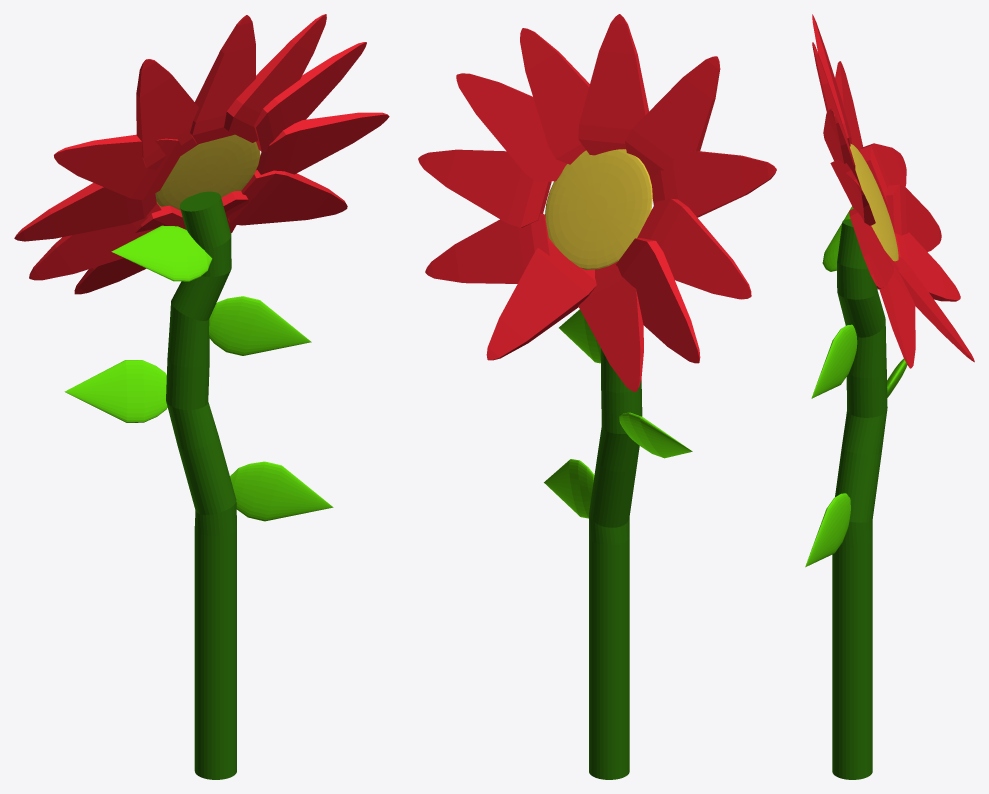
Rendered from redFlower.fbx.
3 renders of one model, left to right at view 1: azimuth 30°, elevation 25°; view 2: azimuth 150°, elevation 25°; view 3: azimuth 270°, elevation 25°, orthographic. The views are drawn at different scales.
Visible parts, largest first — view 1: leaves, Cylinder, Cone, Sphere; view 2: leaves, Cylinder, Sphere, Cone; view 3: Cylinder, leaves, Cone, Sphere.
Boxes of the visible parts, x1=… form: leaves: x1=14, y1=14, x2=389, y2=294; Cylinder: x1=166, y1=191, x2=236, y2=779; Cone: x1=64, y1=225, x2=333, y2=521; Sphere: x1=155, y1=134, x2=260, y2=210; leaves: x1=418, y1=14, x2=776, y2=391; Cylinder: x1=589, y1=348, x2=642, y2=779; Sphere: x1=545, y1=149, x2=652, y2=269; Cone: x1=544, y1=309, x2=692, y2=518; Cylinder: x1=832, y1=219, x2=887, y2=779; leaves: x1=812, y1=14, x2=974, y2=368; Cone: x1=805, y1=206, x2=907, y2=567; Sphere: x1=850, y1=144, x2=898, y2=261.
Bounding box in the file's own units: 15.18 × 30.94 × 6.49.
